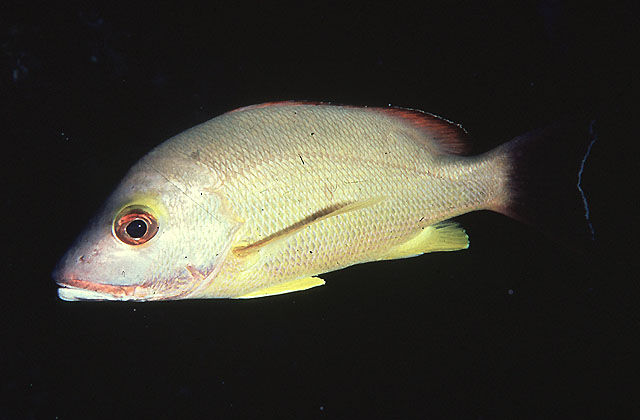fish: (54, 101, 600, 303)
